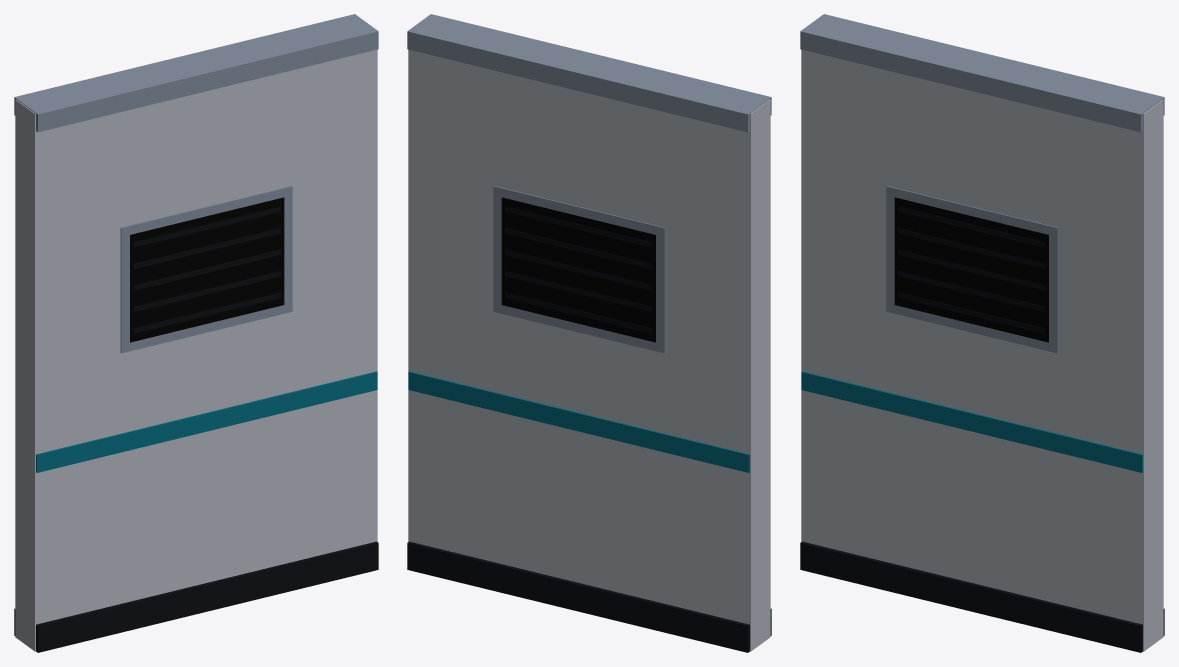
File: SM_Wall_Vent_2x3.glb
3 renders of one model, left to right at view 1: azimuth 30°, elevation 25°; view 2: azimuth 150°, elevation 25°; view 3: azimuth 330°, elevation 25°, orthographic.
Visible parts, largest first — view 1: SM_Wall_Vent_2x3-col; view 2: SM_Wall_Vent_2x3-col; view 3: SM_Wall_Vent_2x3-col.
Part boxes in pixels (<box>): SM_Wall_Vent_2x3-col: <box>14,14,378,652</box>; SM_Wall_Vent_2x3-col: <box>407,14,771,652</box>; SM_Wall_Vent_2x3-col: <box>800,14,1164,652</box>.
Bounding box in the file's own units: 2 × 3 × 0.24.
